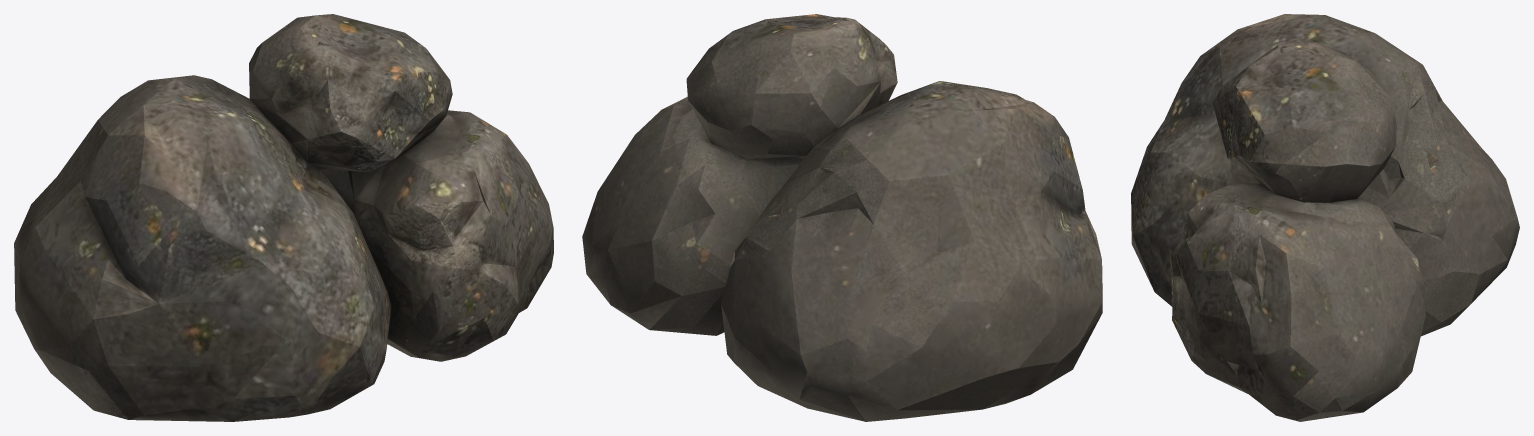
File: rock_a.glb
3 views of the same model, side by side, from view 1: azimuth 30°, elevation 25°; view 2: azimuth 150°, elevation 25°; view 3: azimuth 270°, elevation 25° (orthographic). The views are drawn at different scales.
Size of the model in its own units: 1.89 by 1.16 by 1.41.
1 material, 1 textured.
